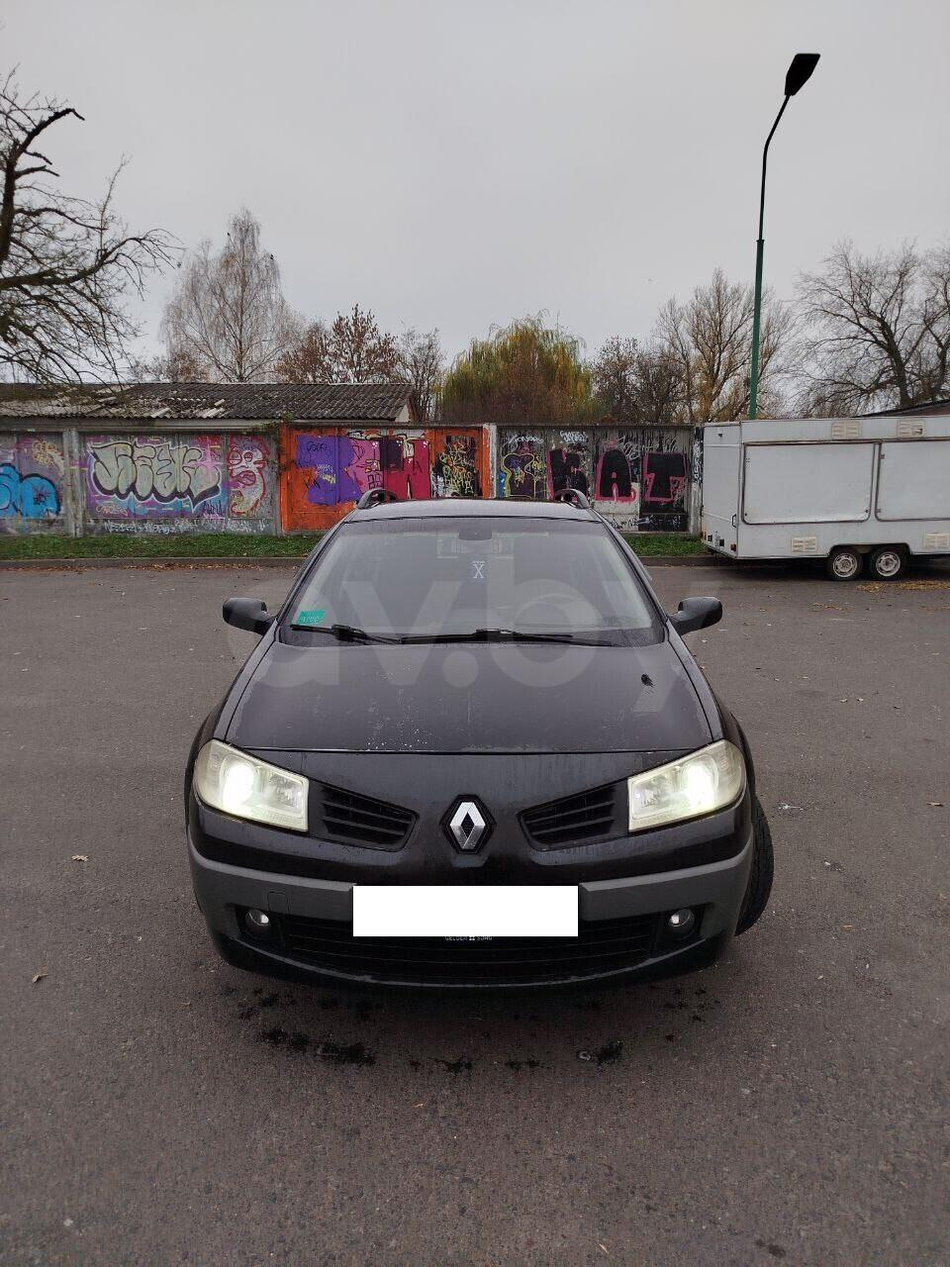Megane_2005-2009: (195, 490, 775, 1010)
